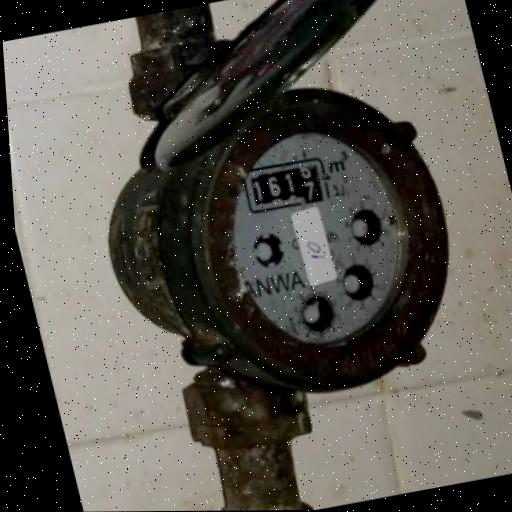1: (277, 168, 302, 201), (247, 175, 269, 206)
6: (295, 164, 323, 203), (262, 171, 286, 203)
border_water_meter_number: (236, 156, 333, 217)
